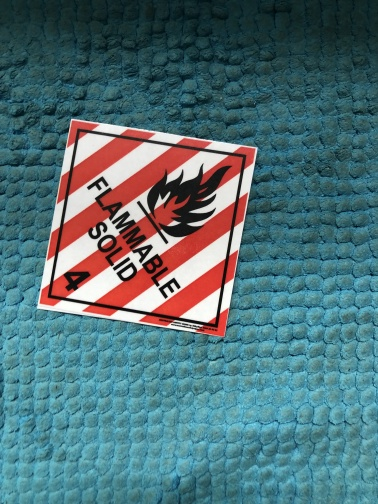FlammableSolid: (60, 121, 233, 328)
